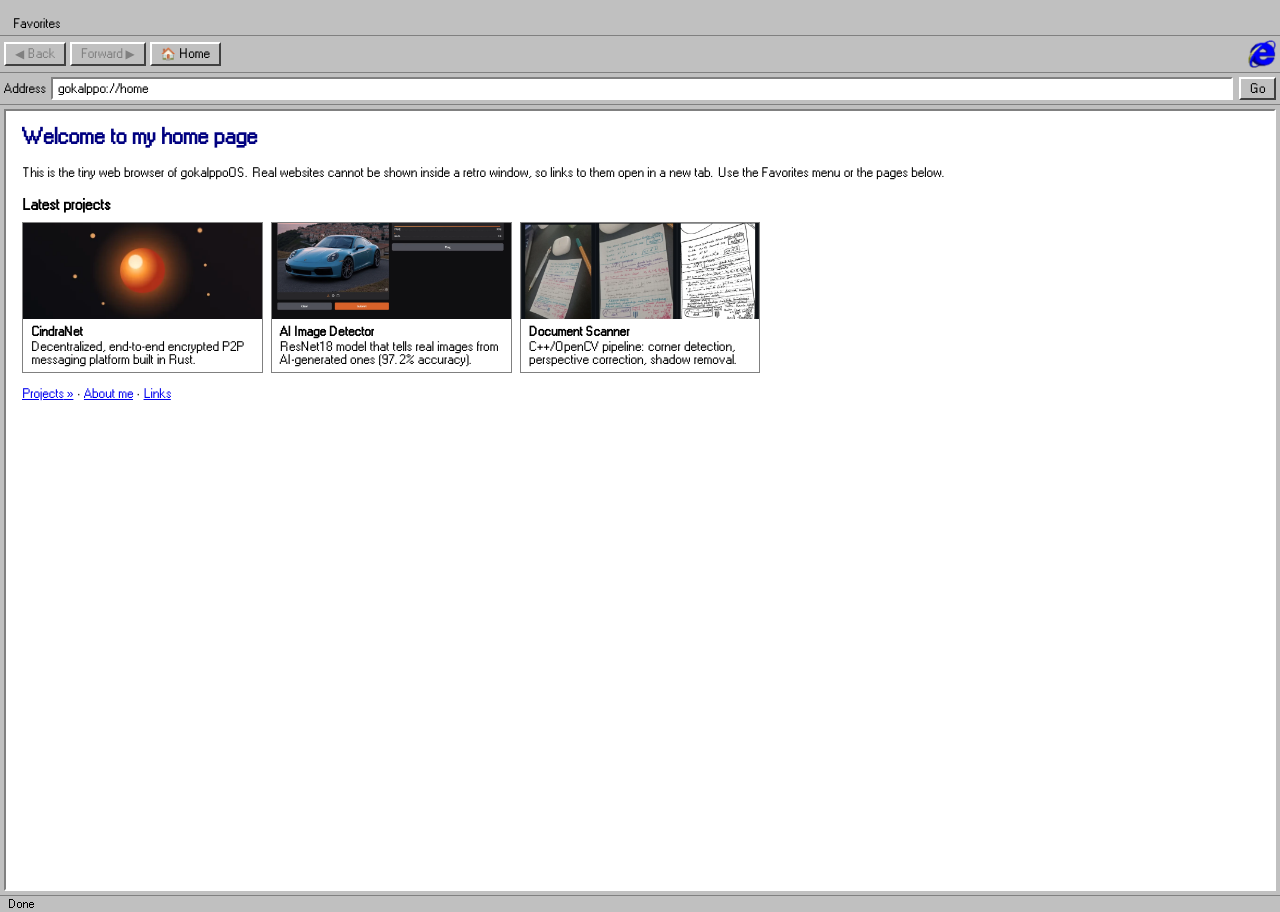
Test: Internet Explorer › opens real URLs in a new tab with noopener and stays on the current page
The image size is (1280, 912).
Replace the text in the field with id "ie-address-input" with "https://github.com/gokalppo" at (642, 88), box [51,77,1233,100]
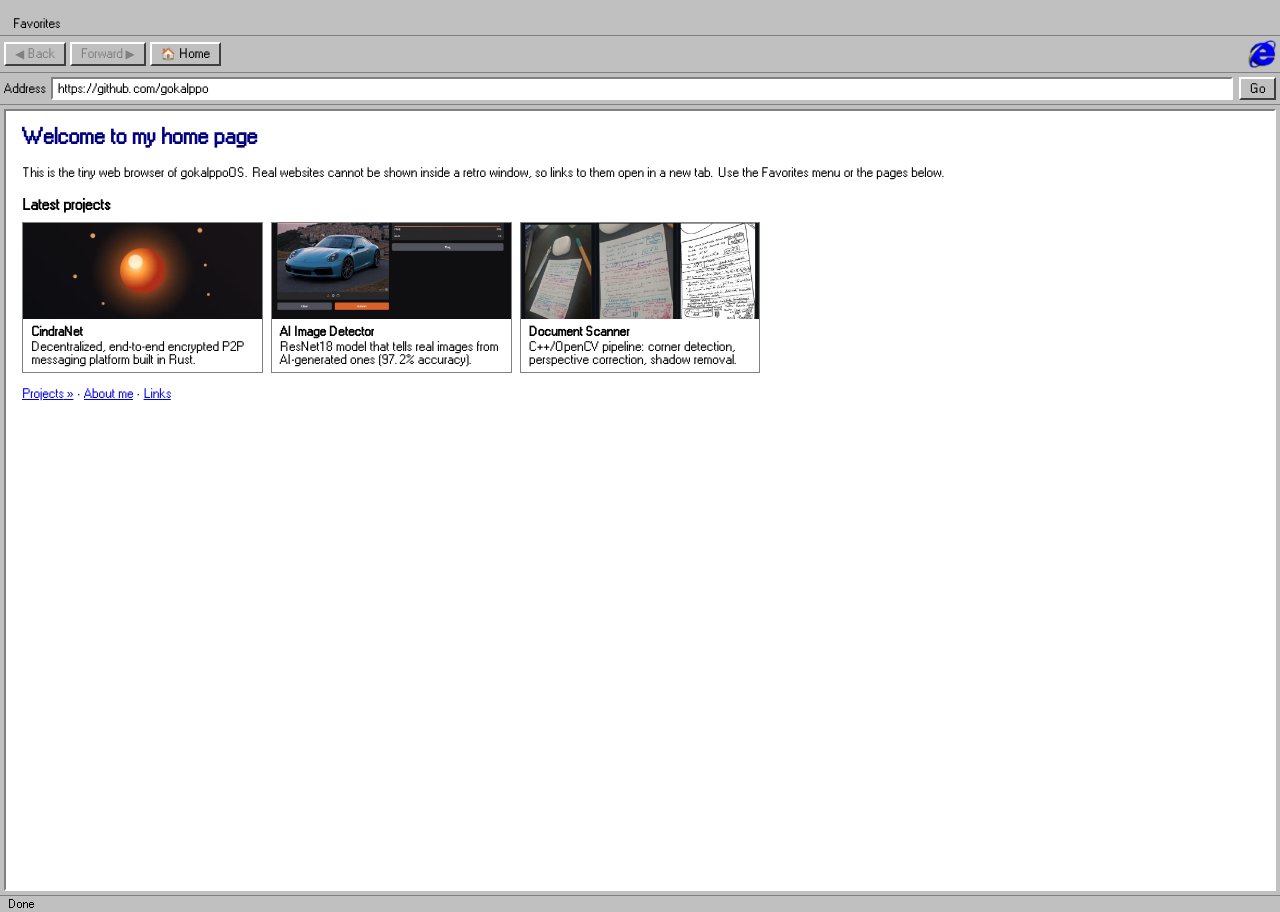
Submit the form with id "ie-address-input", box [0,73,1279,105]
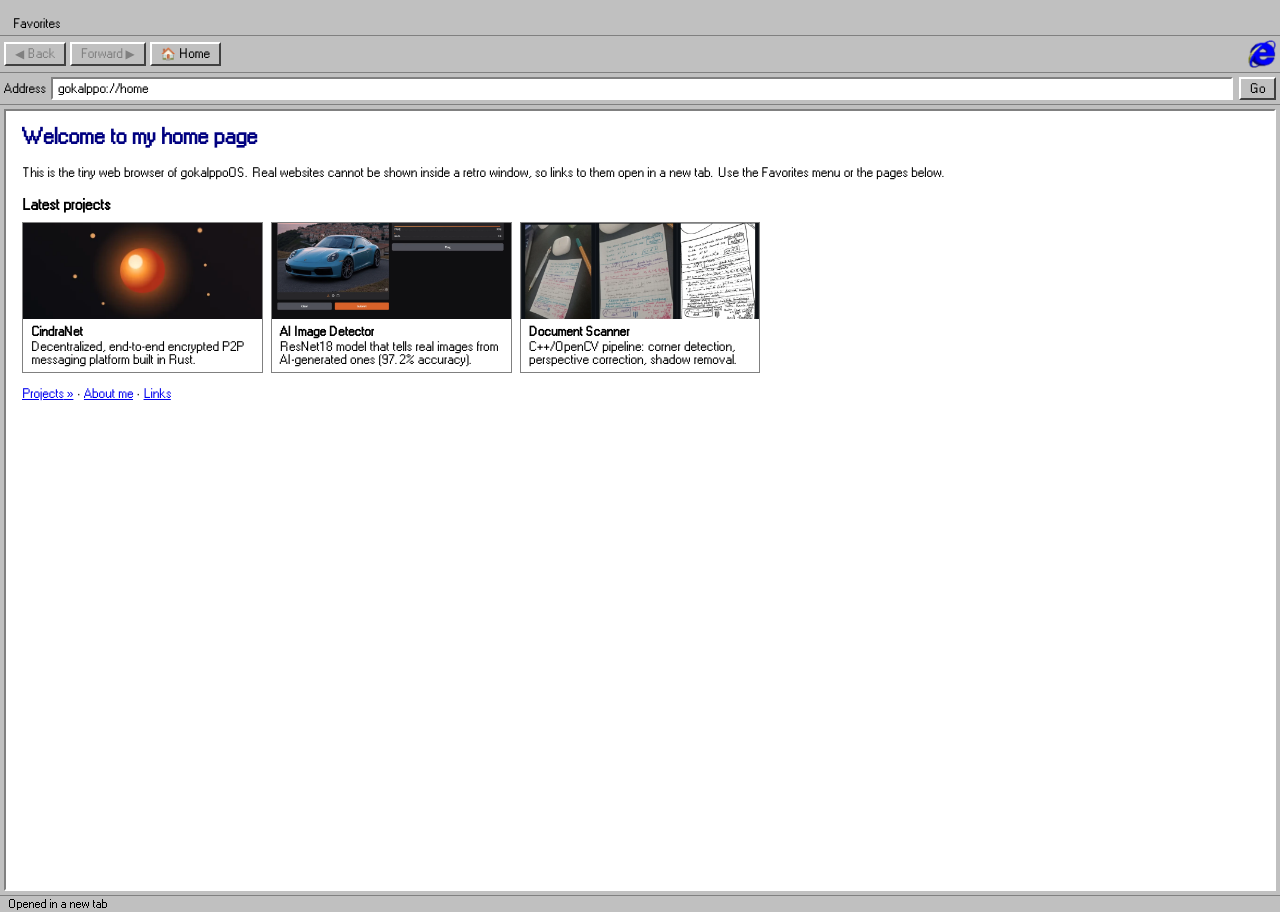
Now the field with id "ie-address-input" holds "gokalppo://home", box [51,77,1233,100]
Now the text "Opened in a new tab" is shown, box [0,895,1279,911]
